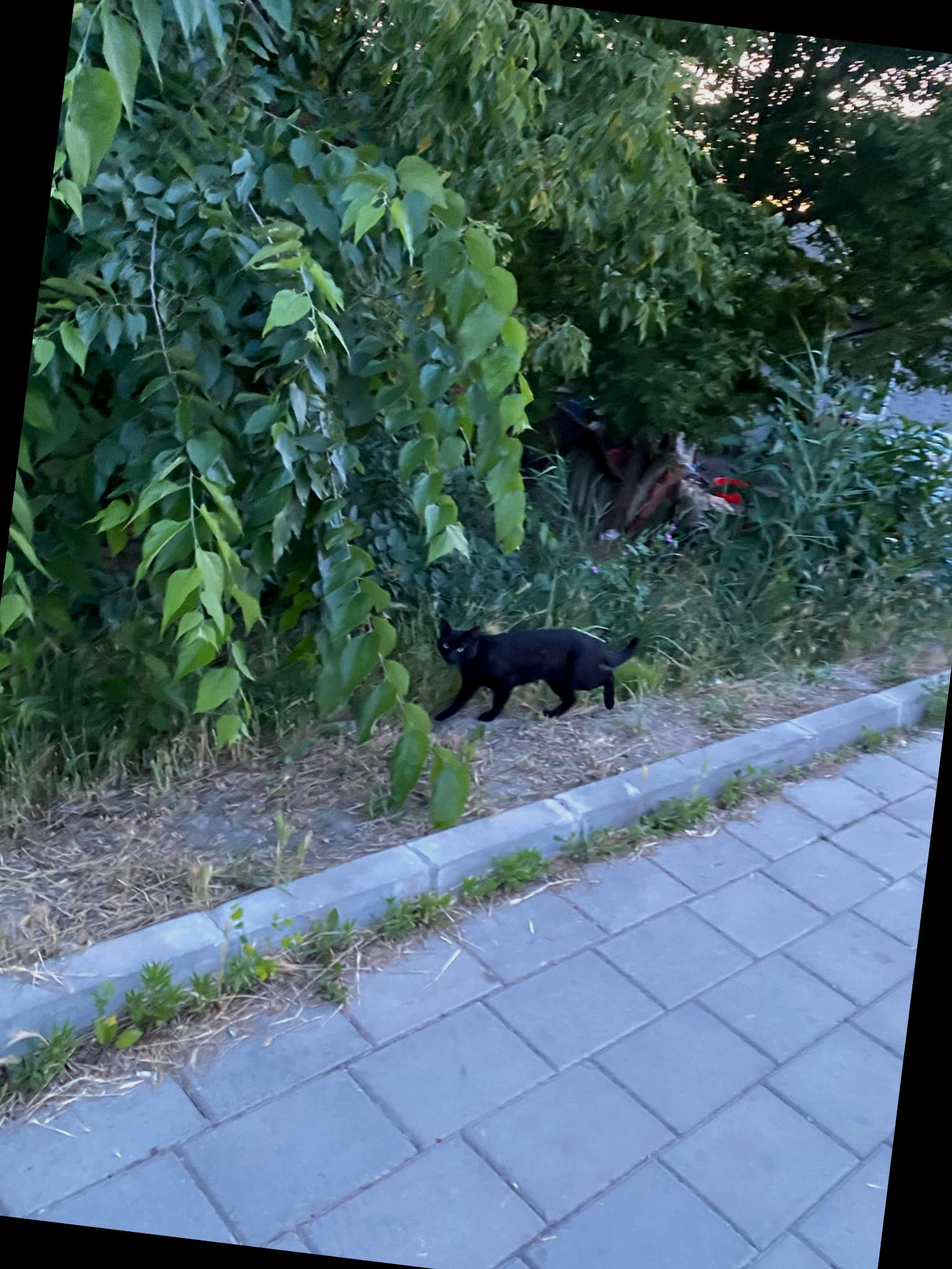macka: (428, 613, 641, 744)
